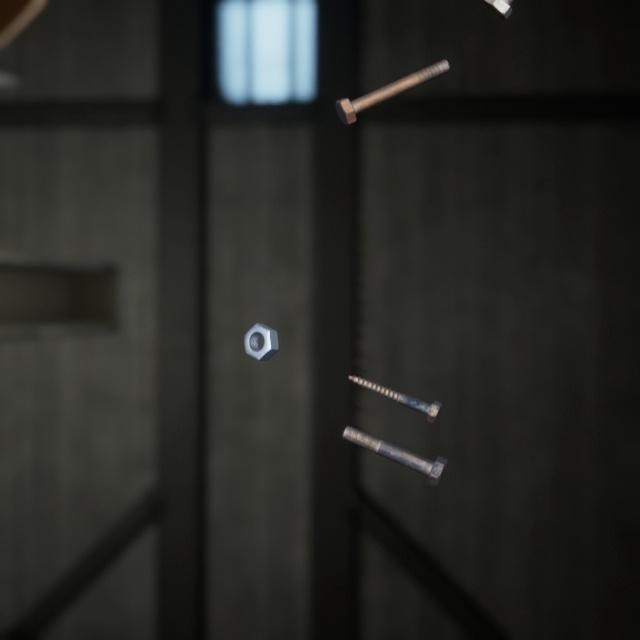bolt: (330, 44, 454, 118), (337, 401, 452, 471), (344, 352, 446, 409)
nut: (239, 300, 283, 346)
